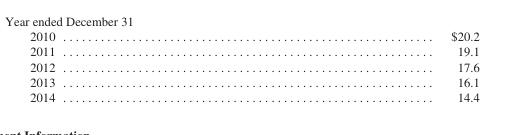table: (29, 28, 478, 103)
table column: (252, 28, 478, 103), (29, 28, 252, 103)
table row: (29, 73, 478, 89), (29, 28, 478, 43), (29, 43, 478, 58), (29, 58, 478, 73), (29, 89, 478, 103)
